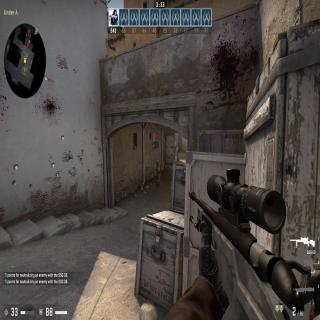CT-Body: (155, 159, 161, 189), (177, 147, 180, 161)
CT-Head: (156, 160, 158, 165)
